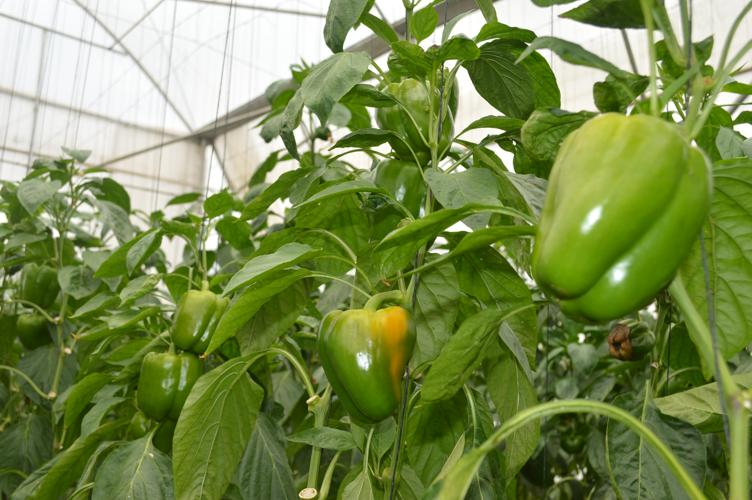BellPepper: (516, 90, 737, 341), (311, 300, 418, 422), (370, 62, 464, 171), (123, 344, 205, 425), (156, 282, 233, 357), (368, 153, 429, 218), (4, 254, 72, 309), (9, 311, 60, 363)
